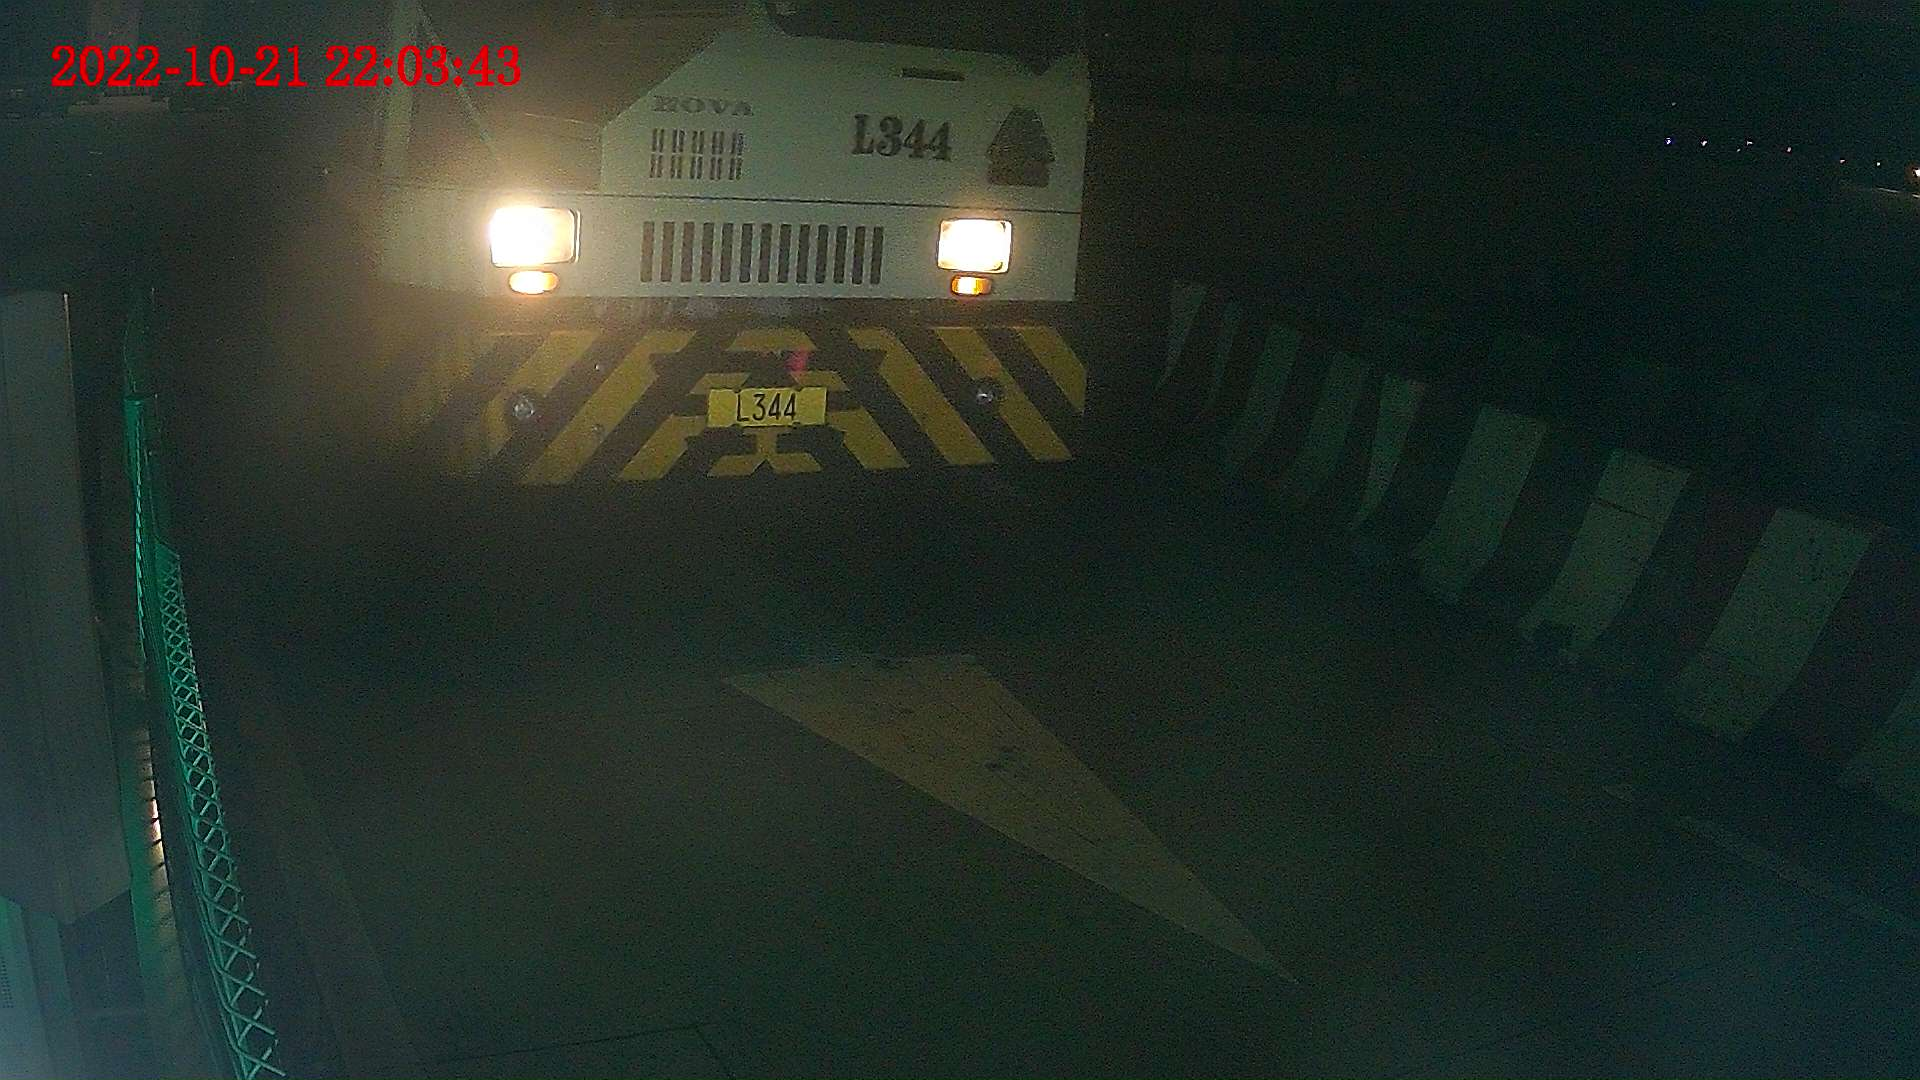head: (176, 1, 1096, 511)
plate: (712, 388, 826, 430)
